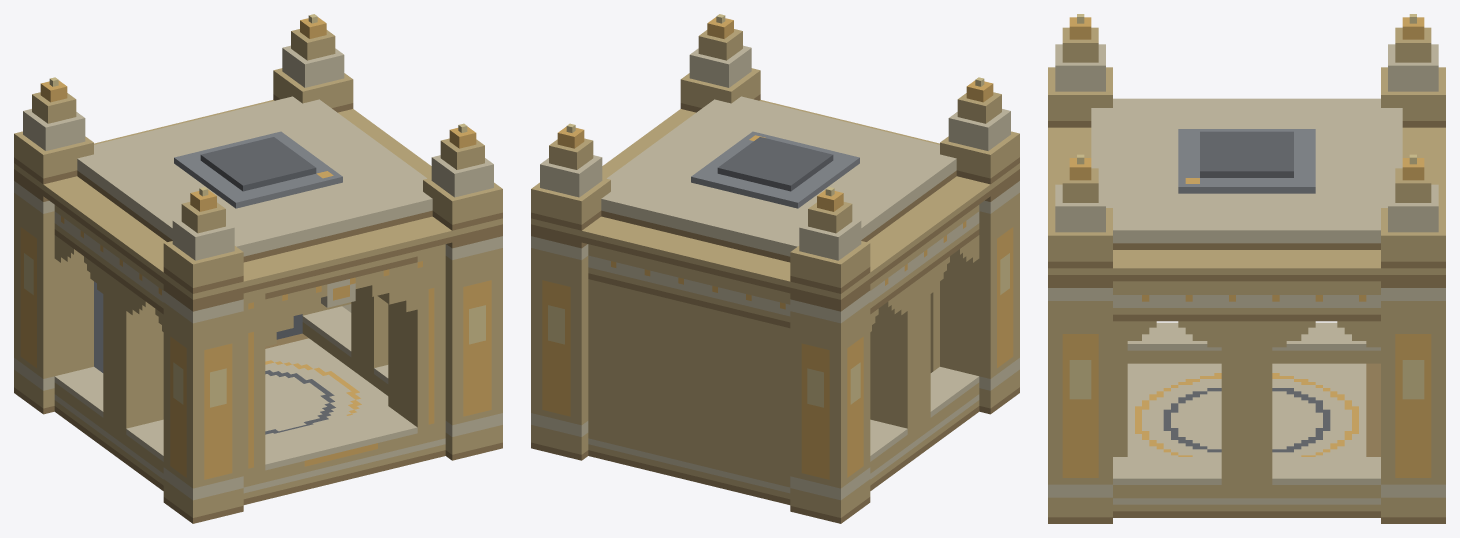
Rendered from cradle.glb.
3 renders of one model, left to right at view 1: azimuth 30°, elevation 25°; view 2: azimuth 150°, elevation 25°; view 3: azimuth 270°, elevation 25°, orthographic. The views are drawn at different scales.
Bounding box in the file's own units: 55 × 54 × 55.
